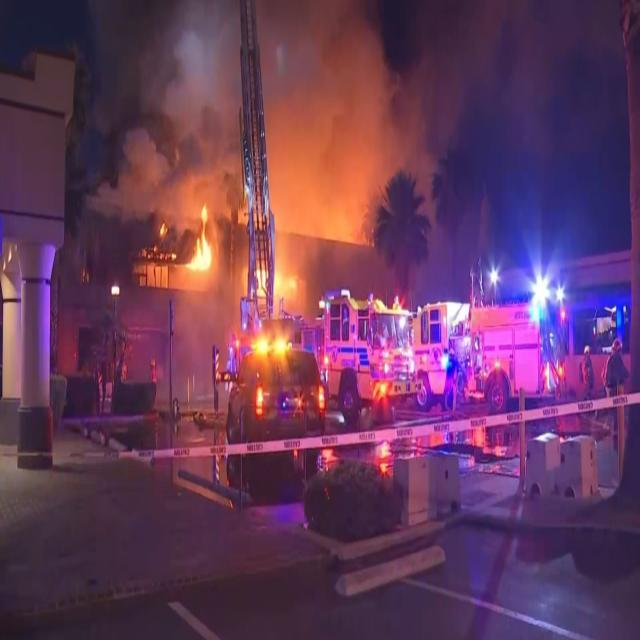Fire: (184, 204, 216, 273), (140, 221, 178, 260), (257, 268, 298, 296)
Smoke: (255, 0, 396, 248), (88, 0, 245, 219), (396, 0, 508, 186), (164, 288, 232, 396)
